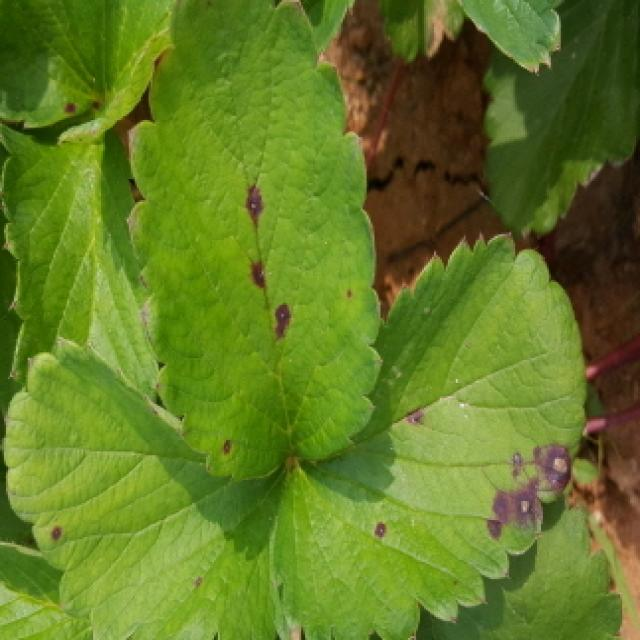Leaf Spot: (272, 231, 588, 640), (127, 0, 385, 484), (4, 335, 292, 640)
